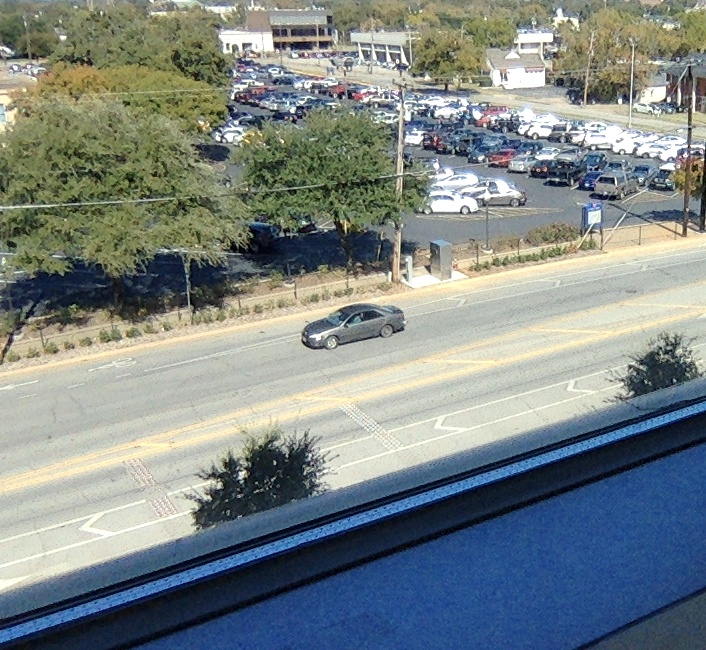car: (300, 300, 406, 350)
